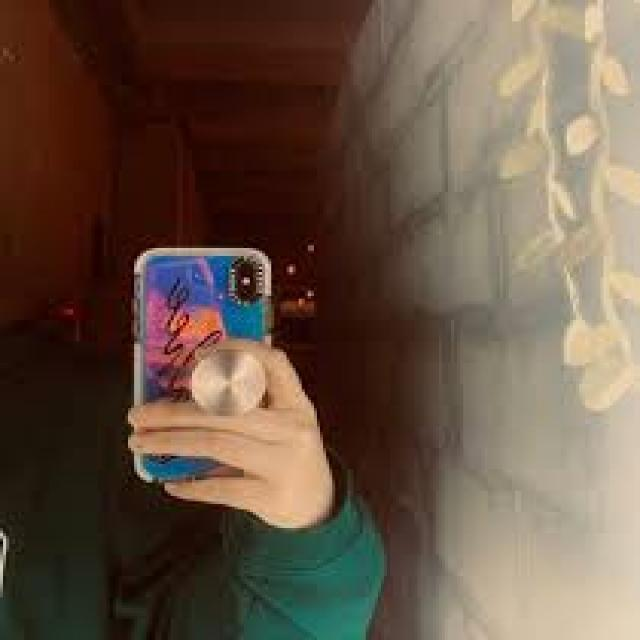Mobile: (128, 240, 279, 489)
